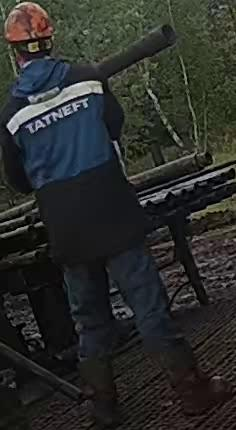helmet: (3, 1, 54, 54)
vest: (3, 77, 147, 248)
